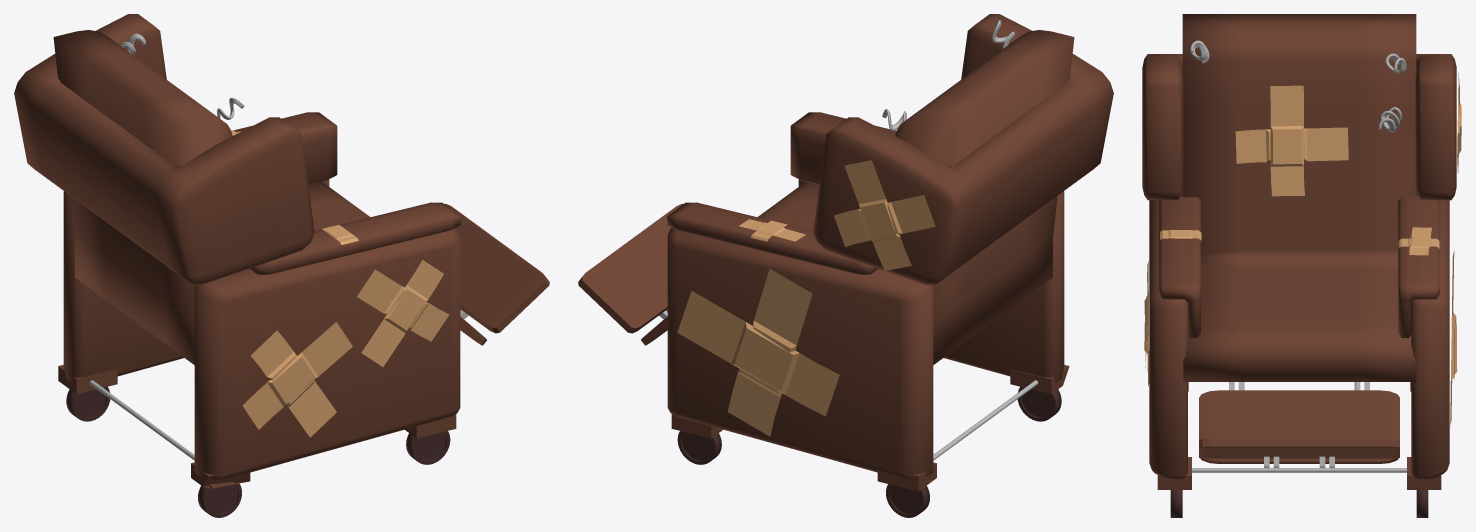
Rendered from Chair_done 1.fbx.
3 views of the same model, side by side, from view 1: azimuth 30°, elevation 25°; view 2: azimuth 150°, elevation 25°; view 3: azimuth 270°, elevation 25° (orthographic). The views are drawn at different scales.
Visible parts, largest first — view 1: foot2_LP.001; view 2: foot2_LP.001; view 3: foot2_LP.001.
Boxes of the visible parts, x1,y1,x2,y2 form: foot2_LP.001: (14, 14, 549, 517); foot2_LP.001: (578, 14, 1113, 517); foot2_LP.001: (1142, 14, 1461, 517).
Size of the model in its own units: 321 by 301 by 224.
